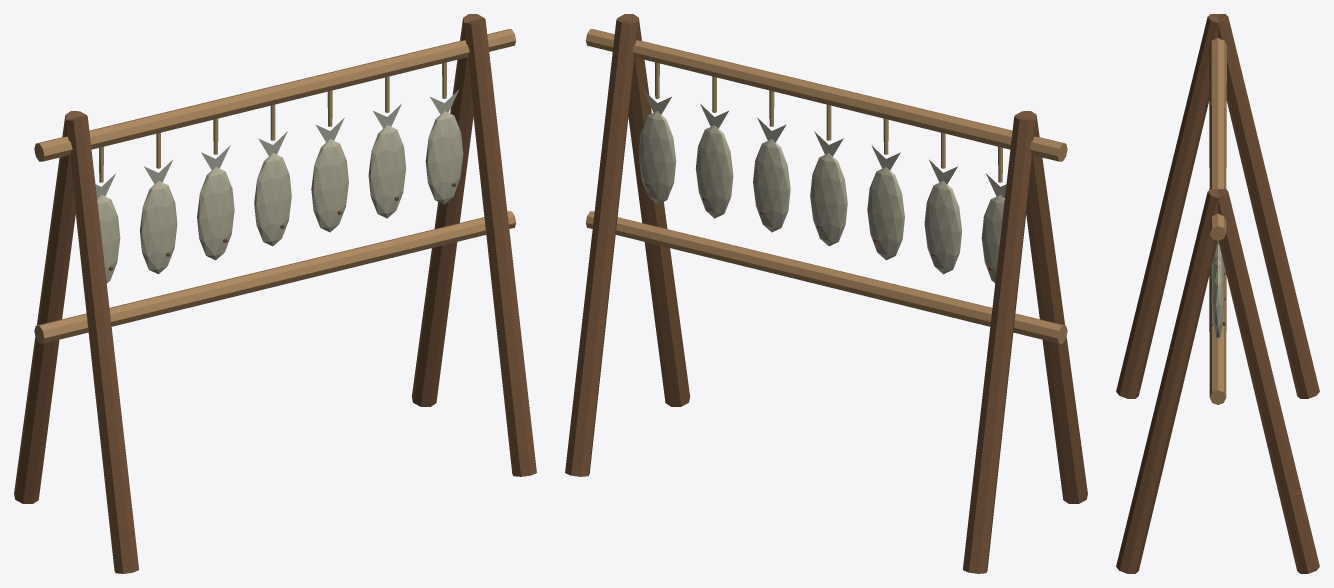
3 renders of one model, left to right at view 1: azimuth 30°, elevation 25°; view 2: azimuth 150°, elevation 25°; view 3: azimuth 270°, elevation 25°, orthographic. The views are drawn at different scales.
Parts seen in each view (by area): view 1: CE-003 Open coastal fish drying frame batched; view 2: CE-003 Open coastal fish drying frame batched; view 3: CE-003 Open coastal fish drying frame batched.
Part boxes in pixels (x1,y1,x2,y2): CE-003 Open coastal fish drying frame batched: (14,14,536,573); CE-003 Open coastal fish drying frame batched: (565,14,1087,573); CE-003 Open coastal fish drying frame batched: (1116,14,1319,573).
Size of the model in its own units: 1.9 by 1.62 by 0.7879.
